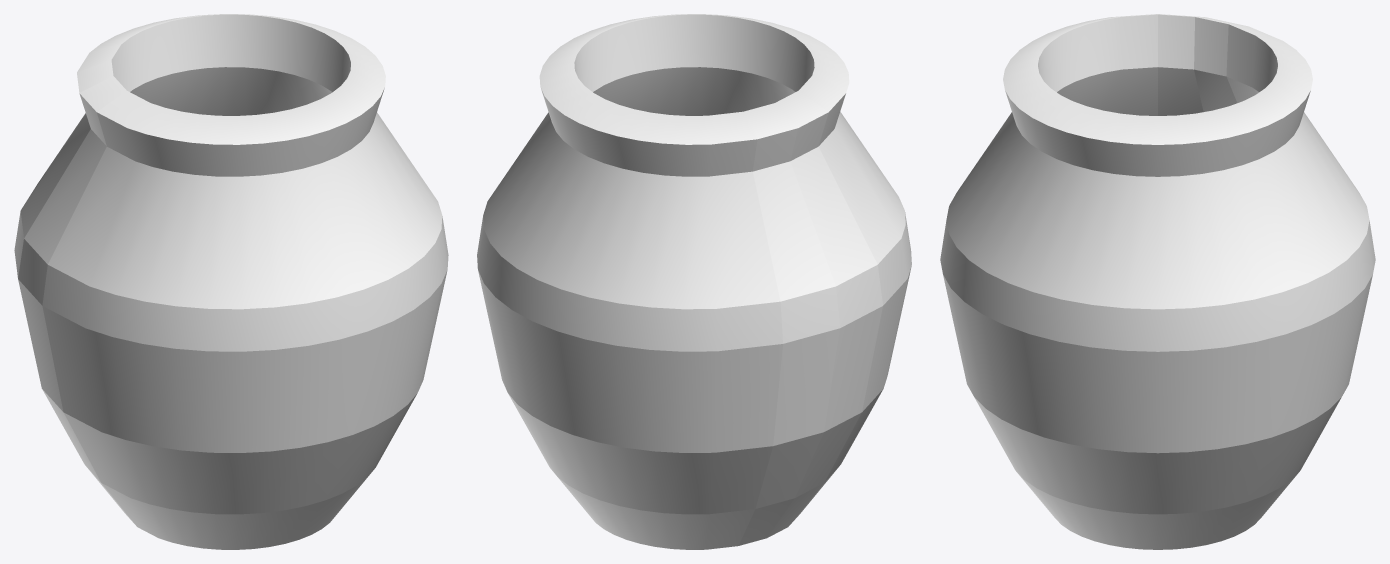
The model's file is Vase3.fbx.
3 renders of one model, left to right at view 1: azimuth 30°, elevation 25°; view 2: azimuth 150°, elevation 25°; view 3: azimuth 270°, elevation 25°, orthographic.
Visible parts, largest first — view 1: polySurface8, polySurface6, polySurface2, polySurface10, polySurface15, polySurface4, polySurface13, polySurface22; view 2: polySurface2, polySurface5, polySurface8, polySurface21, polySurface22, polySurface6, polySurface15, polySurface13; view 3: polySurface8, polySurface5, polySurface13, polySurface18, polySurface2, polySurface15, polySurface10, polySurface21, polySurface12.
Boxes of the visible parts, bbox=[...] form: polySurface8: bbox=[209, 55, 448, 447]; polySurface6: bbox=[18, 279, 308, 514]; polySurface2: bbox=[14, 37, 218, 327]; polySurface10: bbox=[170, 393, 417, 549]; polySurface15: bbox=[101, 14, 266, 89]; polySurface4: bbox=[131, 67, 326, 115]; polySurface13: bbox=[261, 16, 382, 95]; polySurface22: bbox=[87, 467, 186, 545]; polySurface2: bbox=[649, 45, 907, 452]; polySurface5: bbox=[477, 112, 686, 514]; polySurface8: bbox=[591, 14, 835, 115]; polySurface21: bbox=[508, 393, 714, 549]; polySurface22: bbox=[706, 432, 839, 549]; polySurface6: bbox=[795, 212, 911, 497]; polySurface15: bbox=[541, 78, 688, 176]; polySurface13: bbox=[539, 22, 630, 99]; polySurface8: bbox=[940, 24, 1135, 451]; polySurface5: bbox=[1180, 112, 1375, 448]; polySurface13: bbox=[1110, 101, 1267, 453]; polySurface18: bbox=[1044, 437, 1271, 549]; polySurface2: bbox=[1033, 14, 1295, 115]; polySurface15: bbox=[1242, 42, 1312, 164]; polySurface10: bbox=[974, 397, 1108, 544]; polySurface21: bbox=[1222, 397, 1341, 540]; polySurface12: bbox=[1252, 36, 1264, 92].
Size of the model in its own units: 1.54 by 1.71 by 1.54.
Materials: 1 (1 with a texture image).
